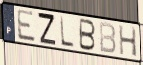B: (98, 21, 117, 55), (79, 18, 97, 53)
E: (16, 9, 37, 44)
H: (118, 24, 138, 59)
L: (59, 15, 75, 50)
Z: (37, 11, 58, 47)
